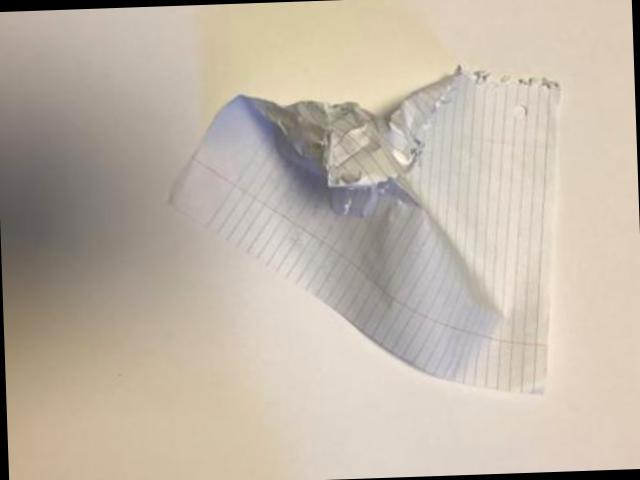cardboard paper: (172, 72, 561, 394)
